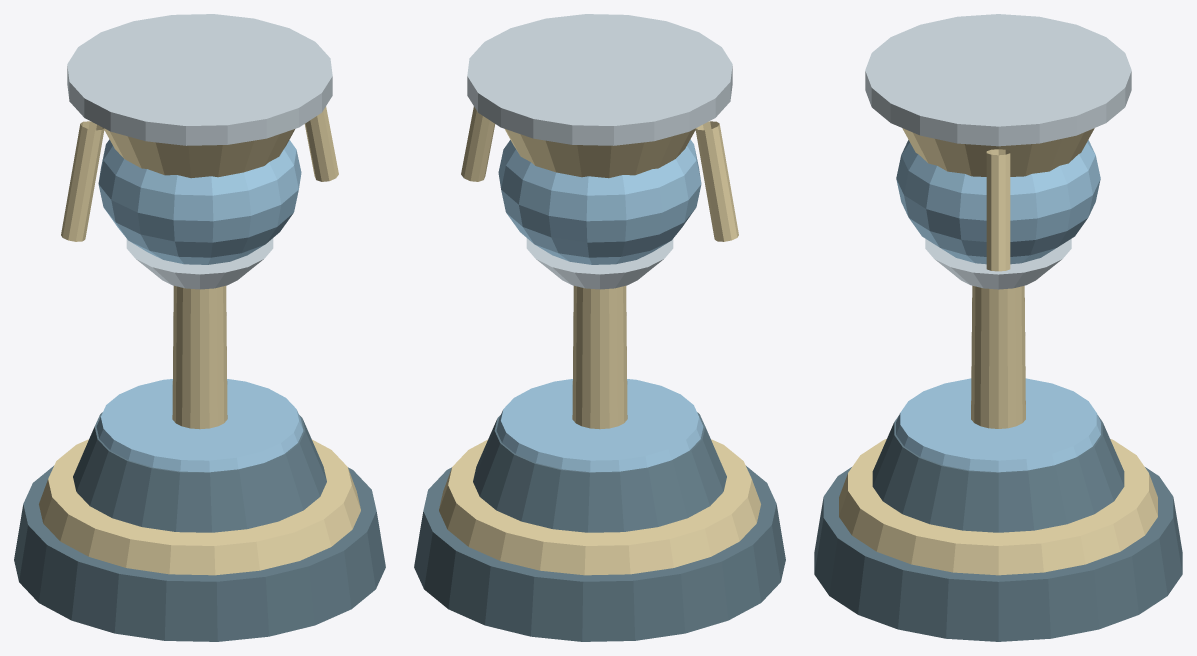
The model's file is governors-cup.glb.
3 renders of one model, left to right at view 1: azimuth 30°, elevation 25°; view 2: azimuth 150°, elevation 25°; view 3: azimuth 270°, elevation 25°, orthographic.
Size of the model in its own units: 1.2 by 1.75 by 1.19.
